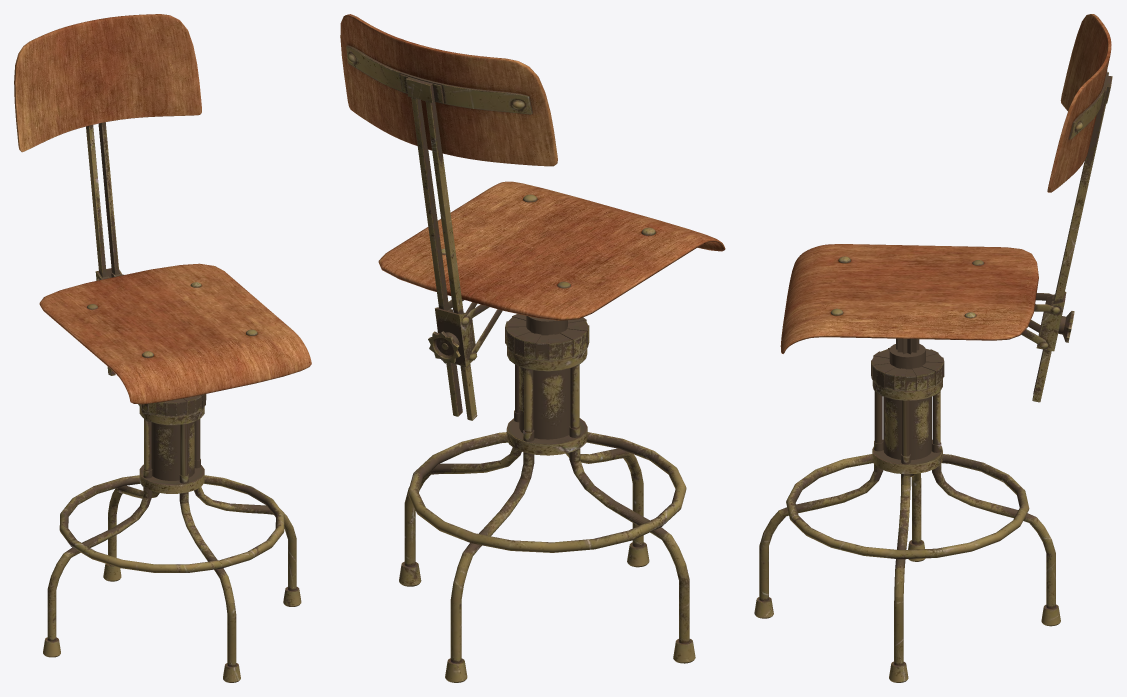
Rendered from chair5-transformed.glb.
The picture shows the model from 3 angles, left to right: view 1: azimuth 30°, elevation 25°; view 2: azimuth 150°, elevation 25°; view 3: azimuth 270°, elevation 25°; orthographic projection. The views are drawn at different scales.
Parts seen in each view (by area): view 1: defaultMaterial; view 2: defaultMaterial; view 3: defaultMaterial.
Part boxes in pixels (x1,y1,x2,y2): defaultMaterial: [14, 14, 311, 682]; defaultMaterial: [340, 14, 725, 682]; defaultMaterial: [754, 14, 1112, 682].
Bounding box in the file's own units: 0.4465 × 0.9222 × 0.5217.
Materials: 1 (1 with a texture image).
